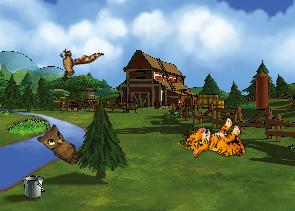eagle: (47, 32, 104, 91)
owl: (34, 120, 88, 166)
tiger: (183, 110, 251, 175)
